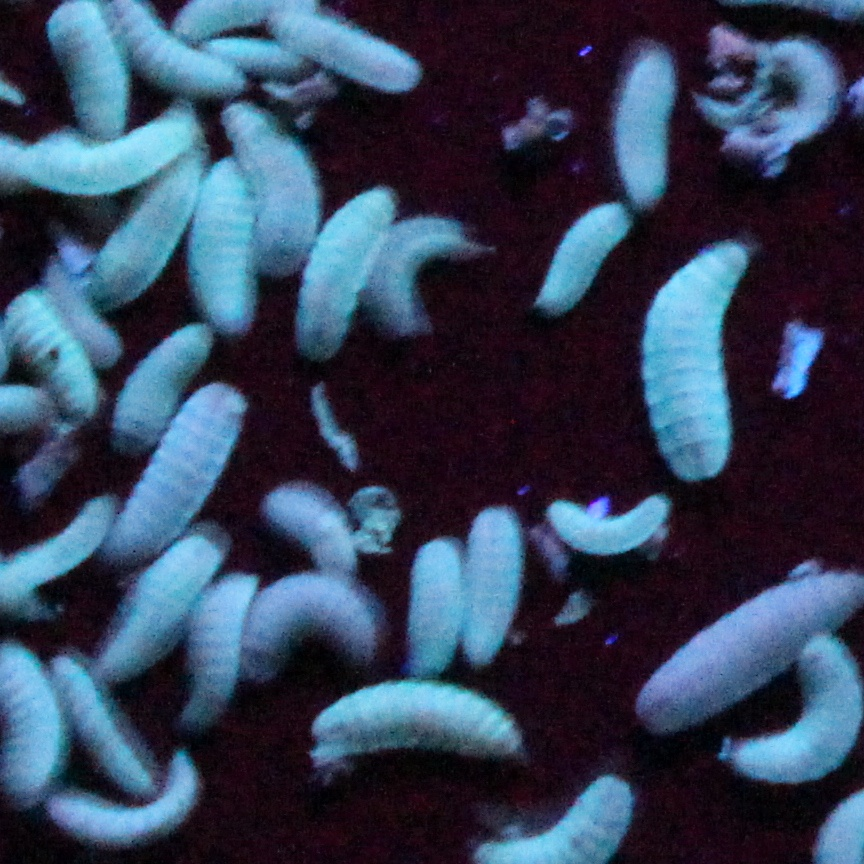larve: (638, 245, 746, 479), (737, 641, 862, 789), (116, 396, 241, 540), (100, 541, 216, 676), (318, 685, 517, 759), (296, 194, 387, 352), (229, 109, 312, 269), (271, 5, 416, 95), (190, 163, 264, 333), (243, 577, 374, 673), (95, 174, 195, 298), (110, 0, 241, 94), (65, 659, 149, 797), (6, 295, 100, 414), (44, 6, 133, 131), (533, 202, 627, 319), (50, 115, 199, 187), (114, 329, 205, 441), (381, 221, 472, 329), (463, 506, 524, 659), (184, 575, 247, 723), (615, 48, 672, 207), (58, 784, 202, 845), (404, 540, 463, 672), (17, 500, 109, 584), (270, 490, 356, 573), (551, 498, 671, 554)
